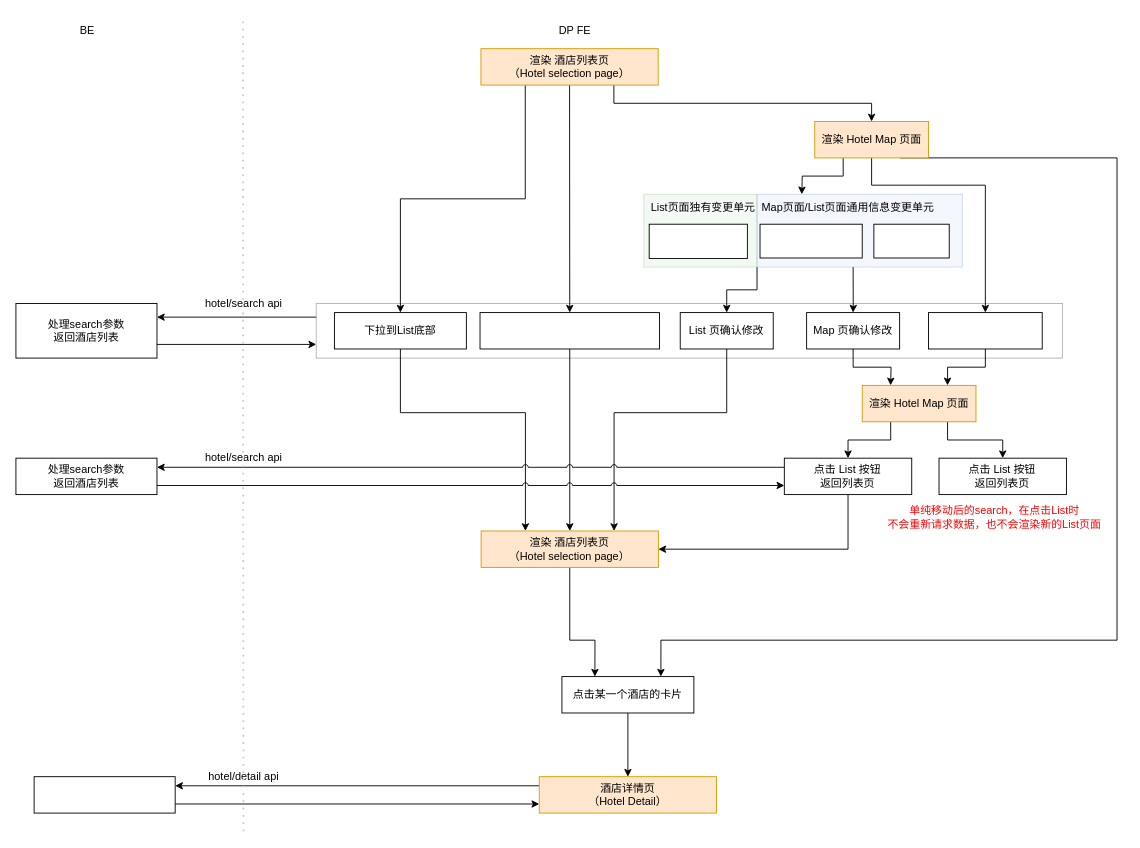
The diagram is 1140 pixels wide and 848 high, and some of its shapes have lost their labels. Each missing label, with the centre of its shape:
"变更 Filter" goes at pixel 911 240.
"变更入住/退房日期" goes at pixel 810 240.
"变更排序规则" goes at pixel 697 240.
"移动后，点击 Search in this area" goes at pixel 985 330.
"返回酒店详情" goes at pixel 104 794.
"选择/取消选择 Breakfast included等快速筛选条件" goes at pixel 569 330.
